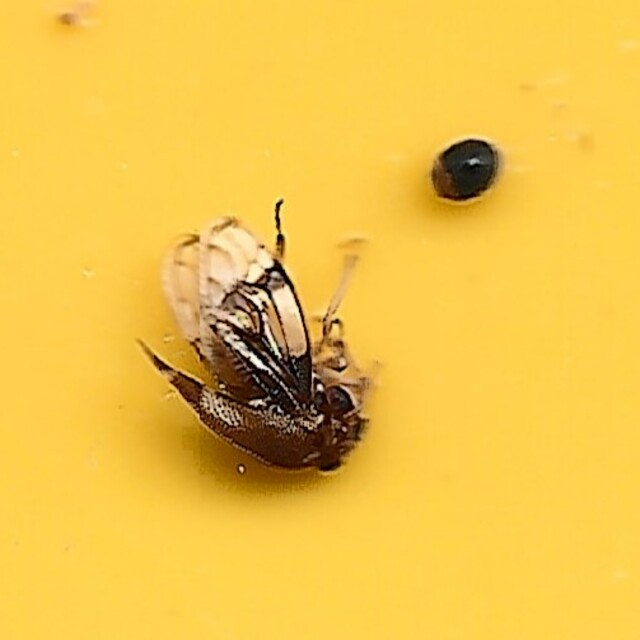Coleoptera: (428, 138, 513, 213)
Hemiptera: (127, 204, 373, 502)
